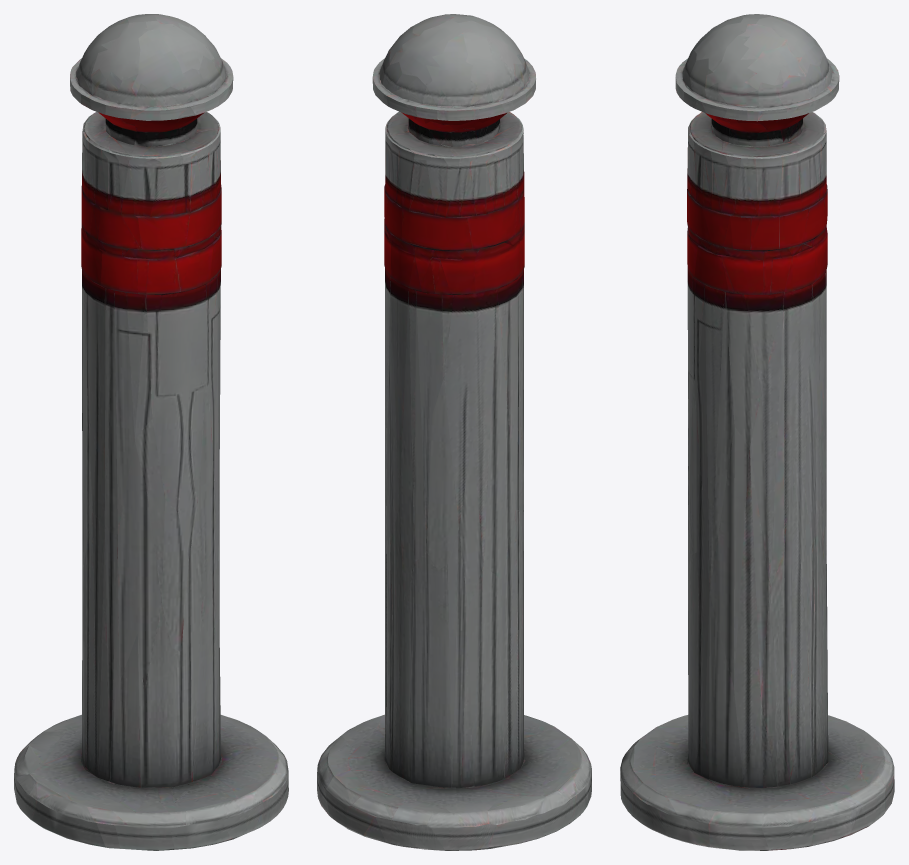
Rendered from bollard_steel.glb.
3 renders of one model, left to right at view 1: azimuth 30°, elevation 25°; view 2: azimuth 150°, elevation 25°; view 3: azimuth 270°, elevation 25°, orthographic.
Size of the model in its own units: 0.6118 by 1.9 by 0.6116.
Materials: 1 (1 with a texture image).
